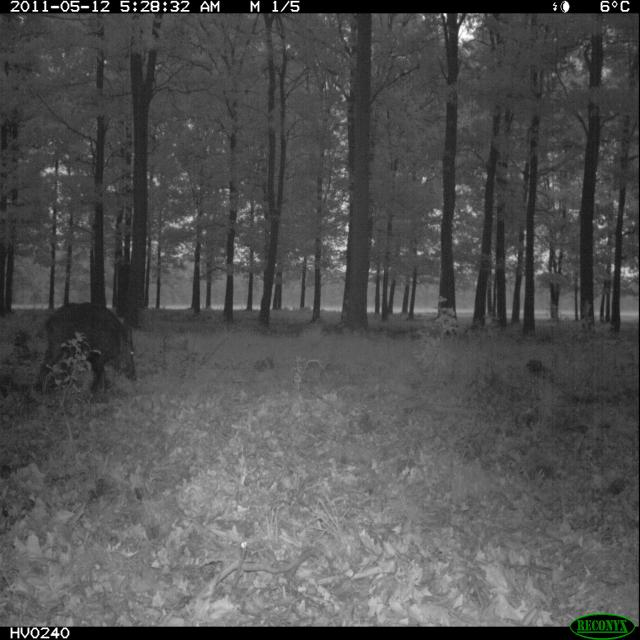boar: (8, 291, 176, 417)
